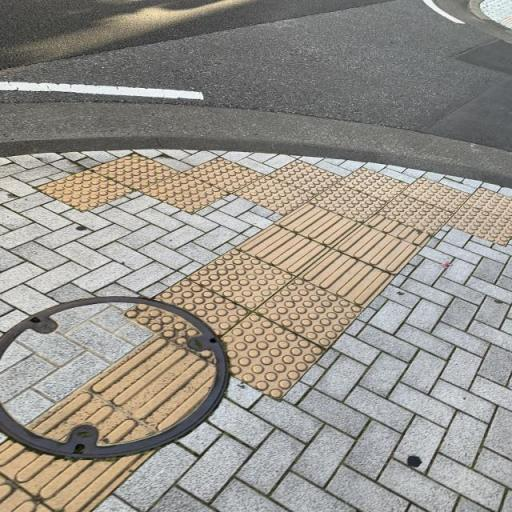dot: (255, 277, 365, 351), (188, 248, 297, 311), (36, 169, 136, 213), (138, 171, 231, 214), (90, 152, 182, 191), (233, 175, 317, 216), (377, 193, 455, 236), (309, 183, 388, 224), (183, 156, 266, 193), (266, 159, 345, 196), (402, 176, 472, 213), (337, 167, 410, 202)
line: (299, 248, 397, 308), (235, 224, 332, 278), (334, 225, 423, 276), (273, 202, 362, 248)
